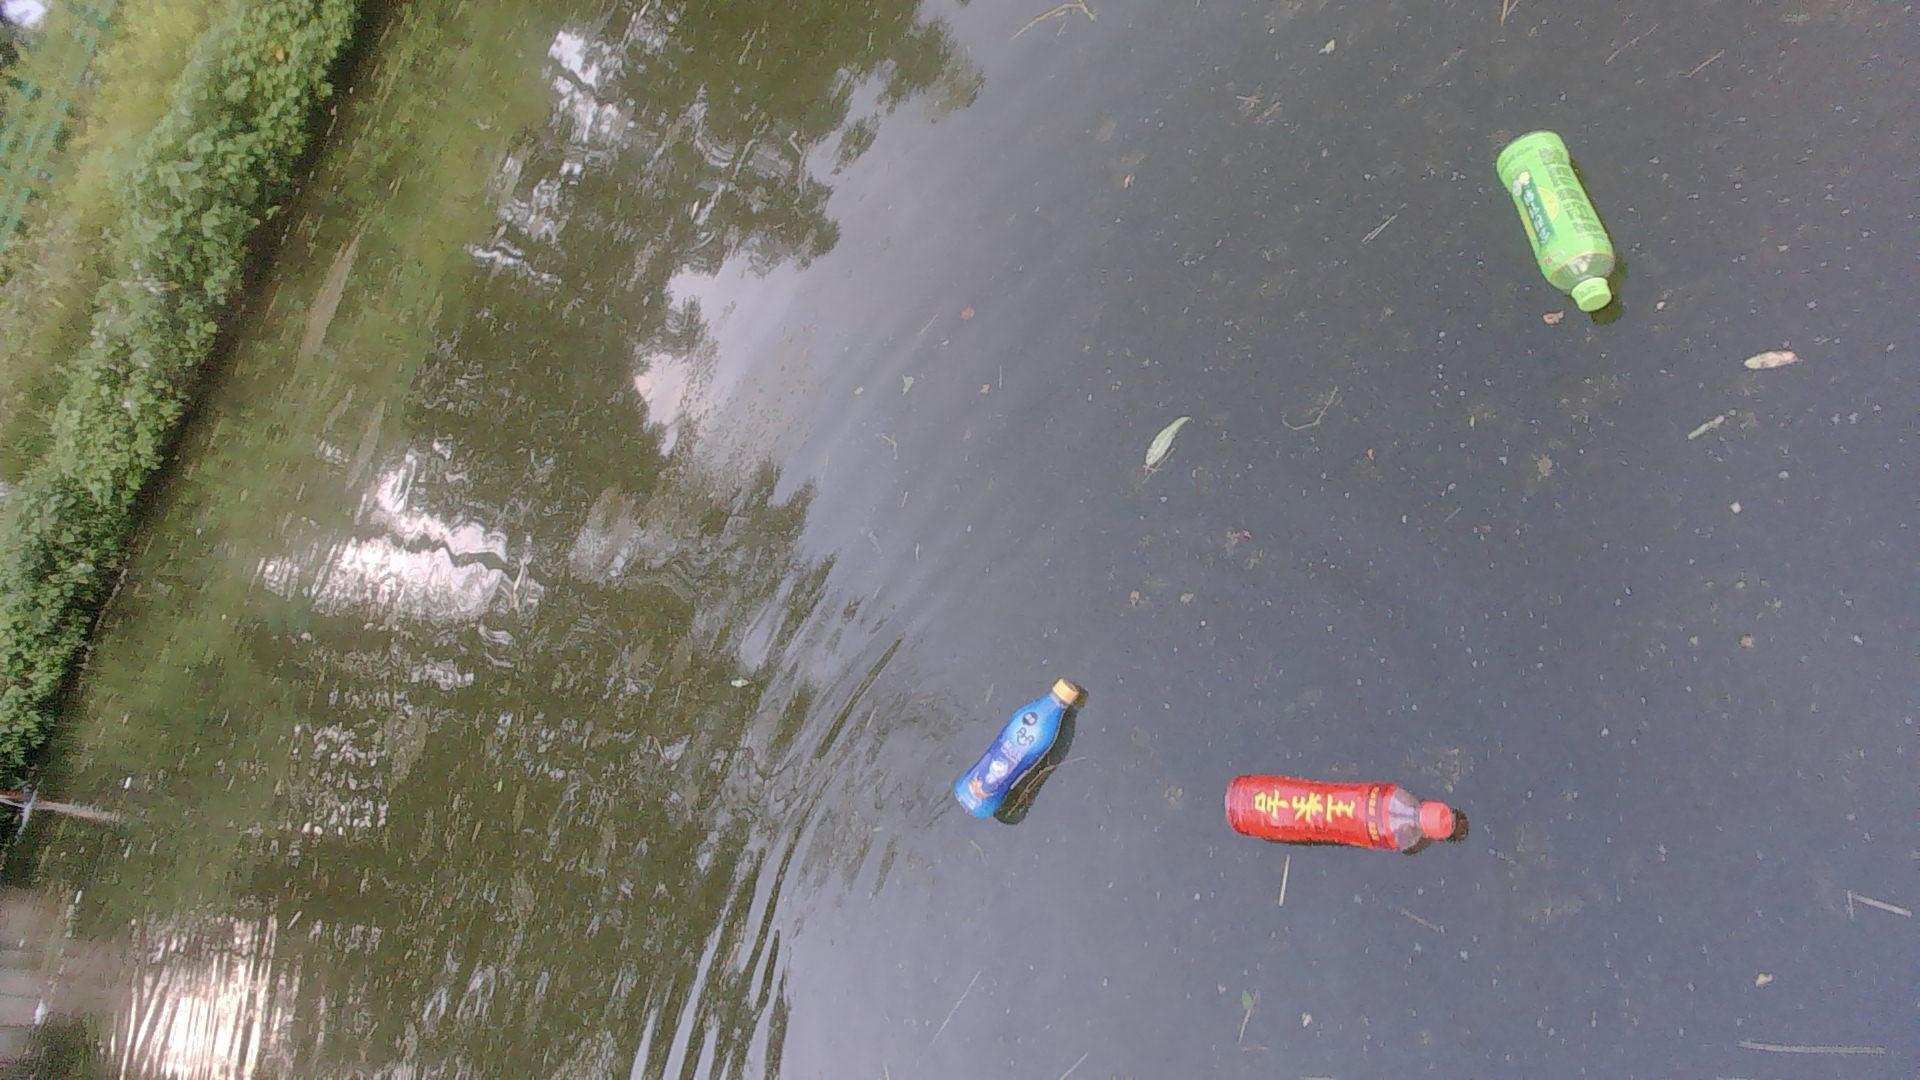Plastic: (1491, 127, 1626, 318), (947, 669, 1088, 824), (1218, 767, 1469, 855)
